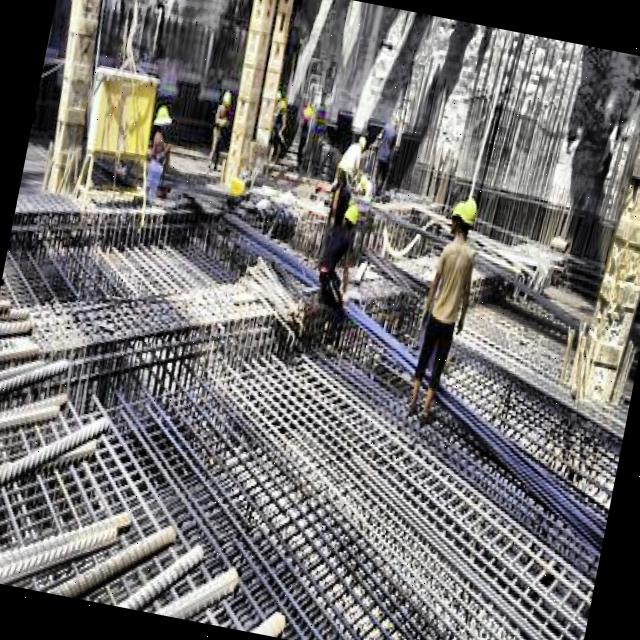helmet: (452, 192, 485, 244), (445, 195, 469, 238), (336, 196, 363, 234)
